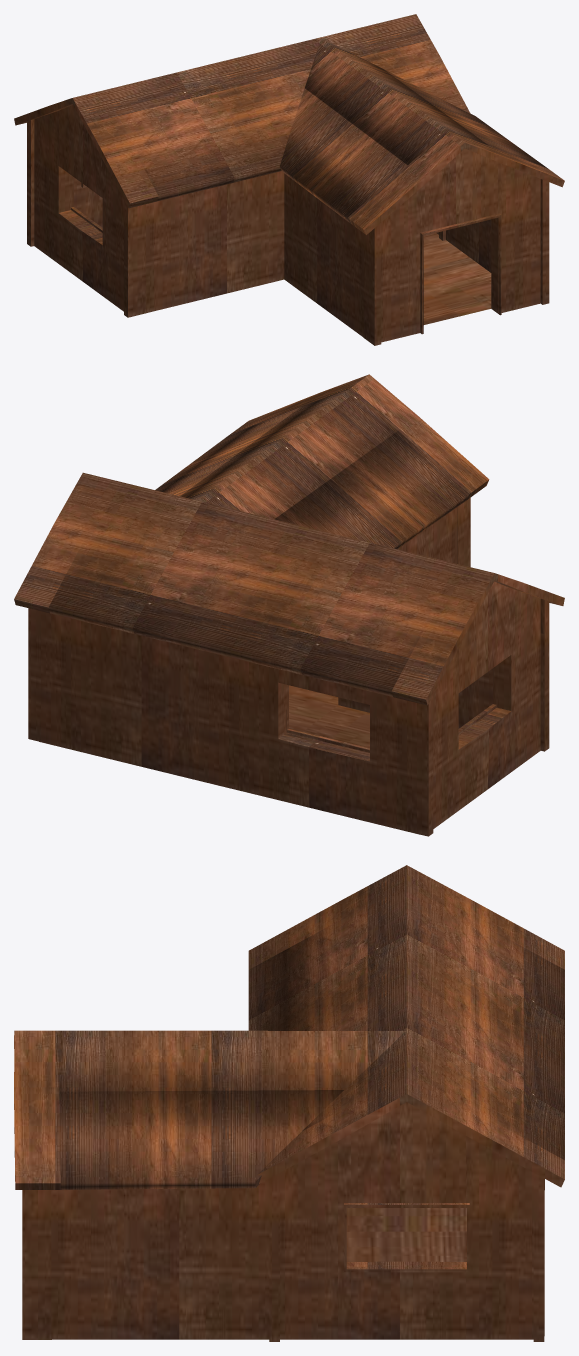
File: Cabin_L.fbx
3 renders of one model, top to bottom at view 1: azimuth 30°, elevation 25°; view 2: azimuth 150°, elevation 25°; view 3: azimuth 270°, elevation 25°, orthographic. The views are drawn at different scales.
Visible parts, largest first — view 1: Cabin_L; view 2: Cabin_L; view 3: Cabin_L.
Part boxes in pixels (x1,y1,x2,y2): Cabin_L: (14,14,564,345); Cabin_L: (14,374,564,836); Cabin_L: (14,865,564,1341).
Bounding box in the file's own units: 2773 × 1397 × 2776.
